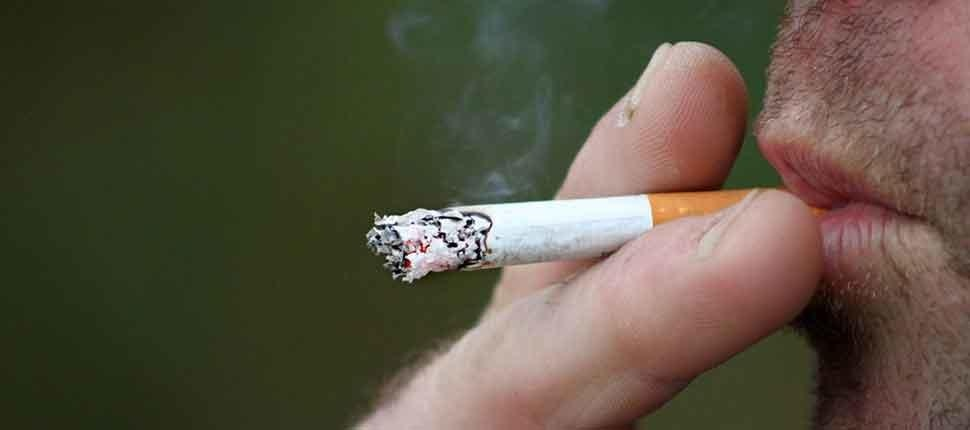sigaretta: (338, 185, 853, 267)
